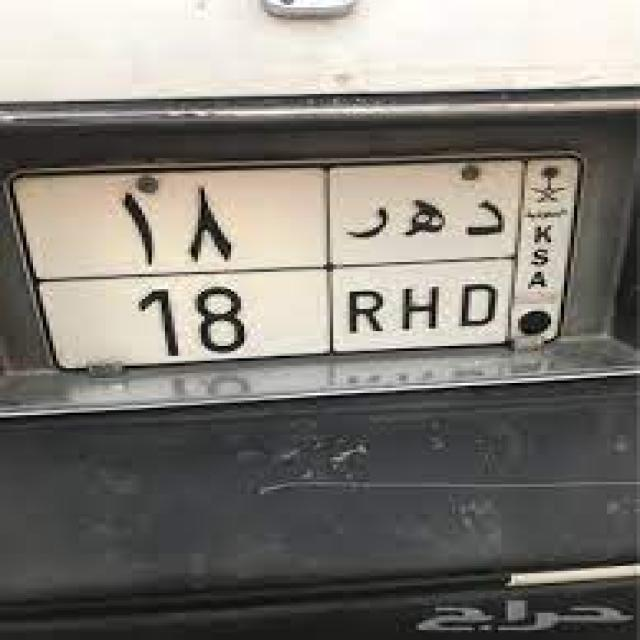license_plate: (0, 148, 591, 378)
